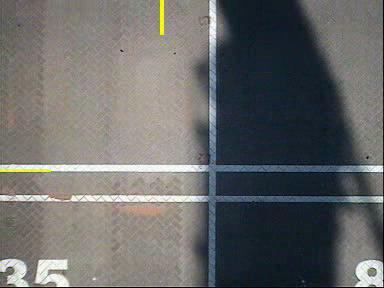groundmarker_2: (156, 186, 229, 235)
